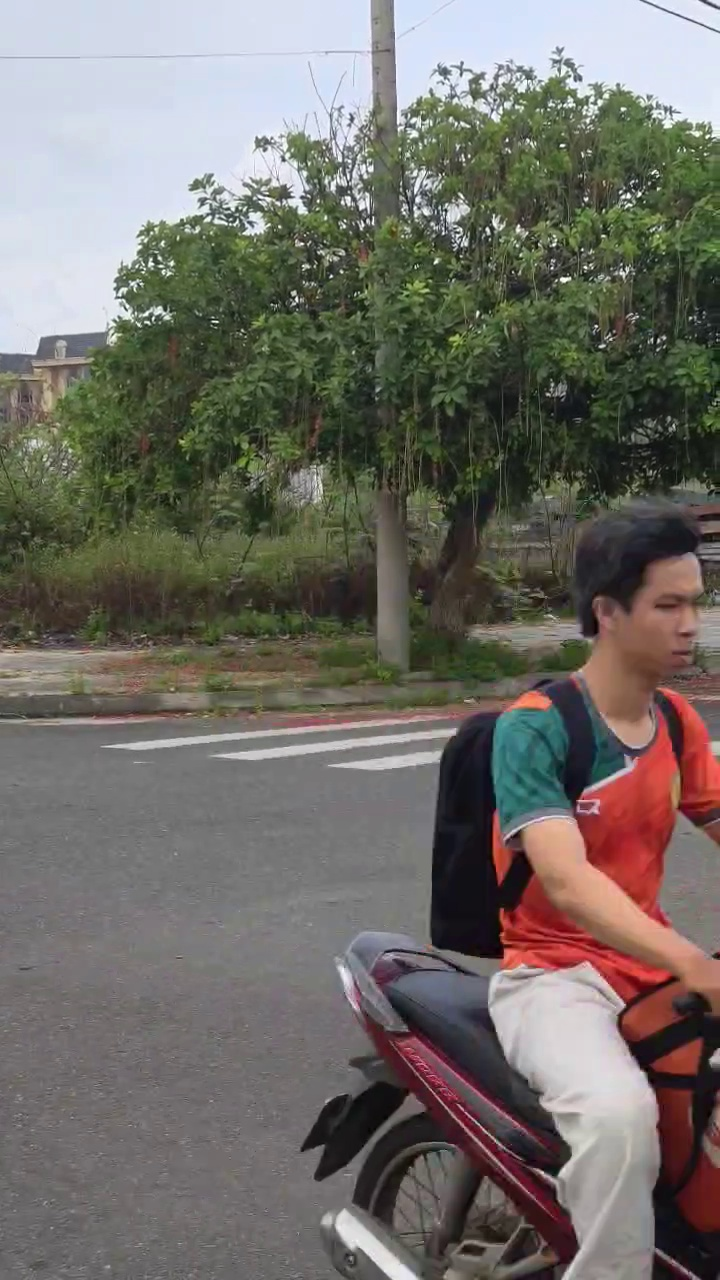no_helmet: (574, 505, 707, 679)
